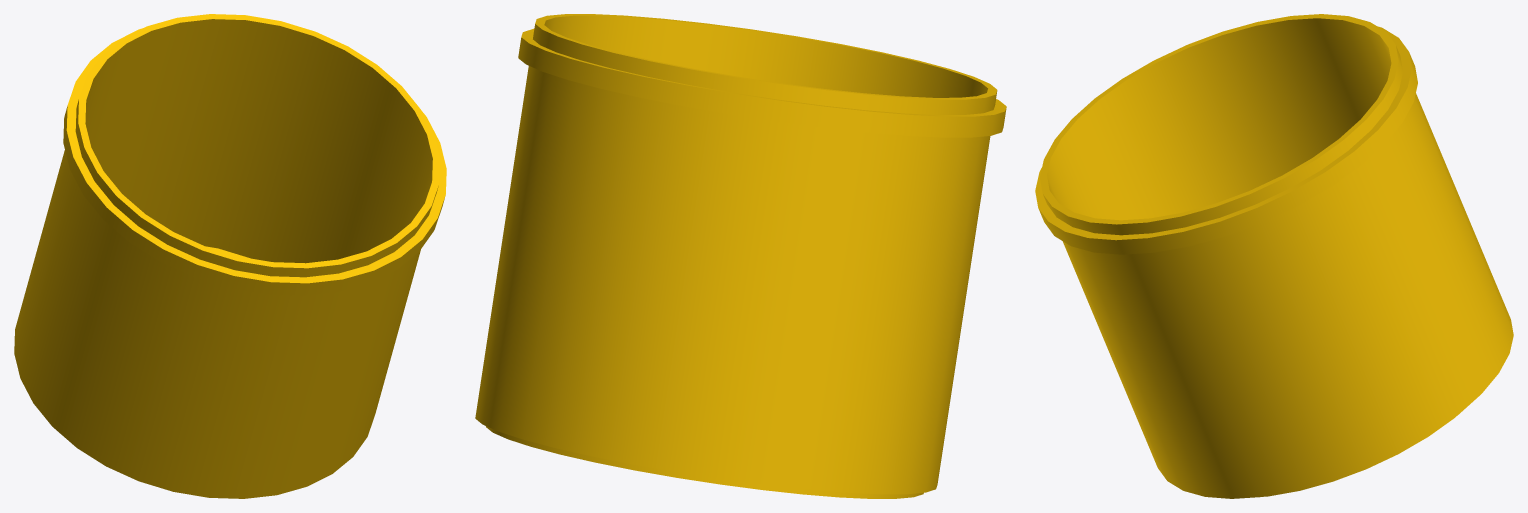
3 renders of one model, left to right at view 1: azimuth 30°, elevation 25°; view 2: azimuth 150°, elevation 25°; view 3: azimuth 270°, elevation 25°, orthographic. The views are drawn at different scales.
Parts seen in each view (by area): view 1: Stacking Cup 9; view 2: Stacking Cup 9; view 3: Stacking Cup 9.
Part boxes in pixels (x1,y1,x2,y2): Stacking Cup 9: [14, 14, 446, 498]; Stacking Cup 9: [475, 14, 1006, 498]; Stacking Cup 9: [1035, 14, 1513, 498].
Bounding box in the file's own units: 0.9632 × 1.06 × 1.15.
